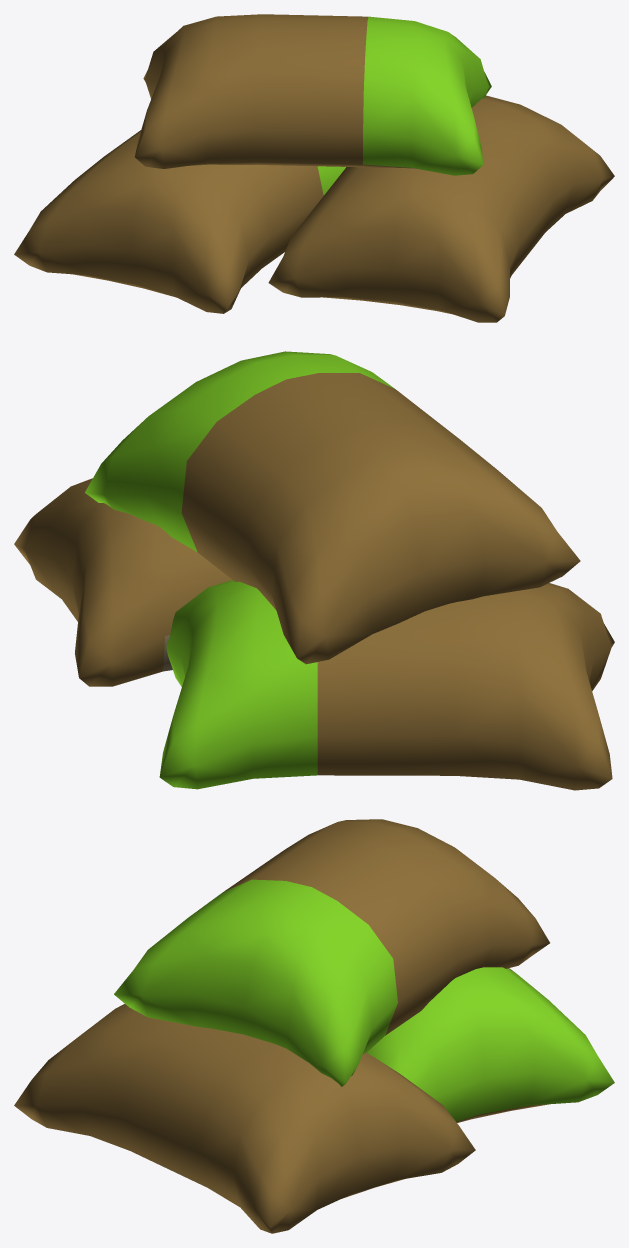
Rendered from material_construccion.glb.
3 renders of one model, top to bottom at view 1: azimuth 30°, elevation 25°; view 2: azimuth 150°, elevation 25°; view 3: azimuth 270°, elevation 25°, orthographic. The views are drawn at different scales.
Visible parts, largest first — view 1: Bags; view 2: Bags; view 3: Bags.
Part boxes in pixels (x1=…): Bags: x1=14, y1=14, x2=614, y2=322; Bags: x1=14, y1=351, x2=614, y2=790; Bags: x1=14, y1=819, x2=614, y2=1233.
Bounding box in the file's own units: 8.54 × 3.39 × 7.57.
